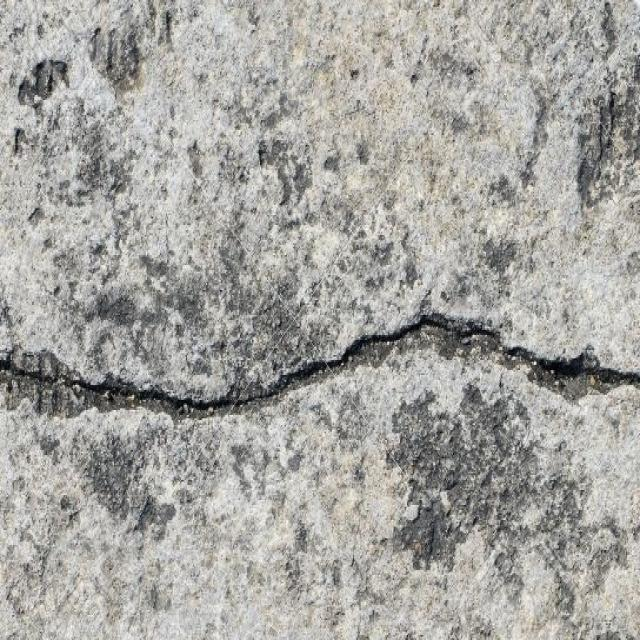crack: (93, 304, 639, 415)
spall: (2, 342, 92, 413)
